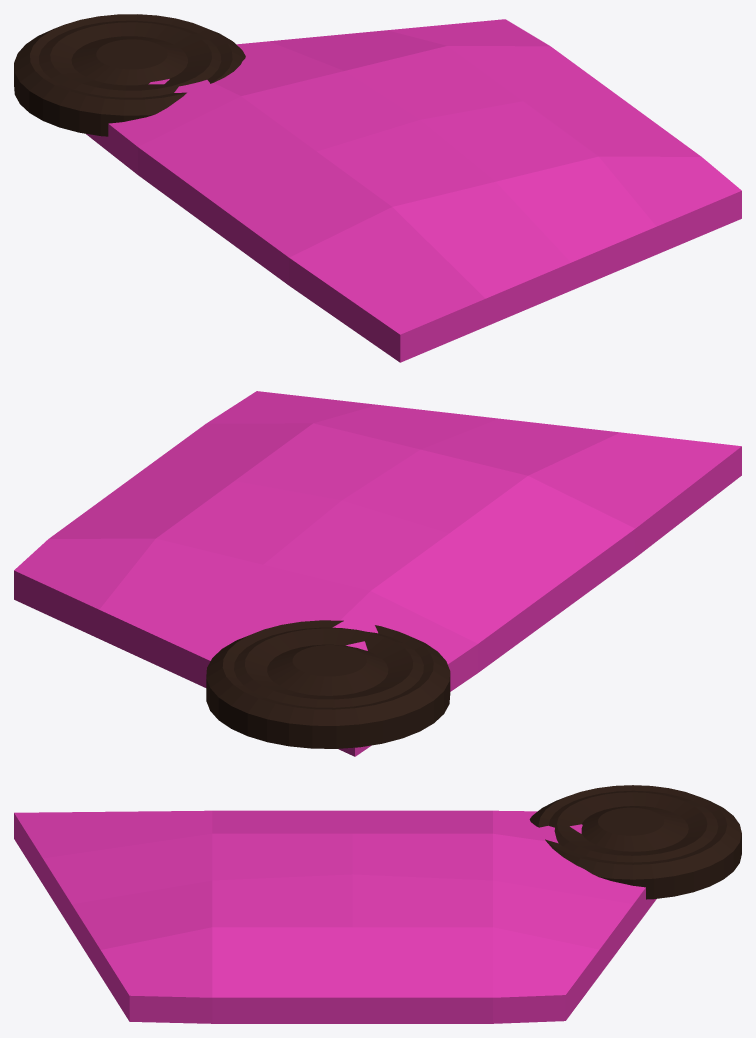
3 views of the same model, one above another, from view 1: azimuth 30°, elevation 25°; view 2: azimuth 150°, elevation 25°; view 3: azimuth 270°, elevation 25° (orthographic). The views are drawn at different scales.
Visible parts, largest first — view 1: Cube, Cylinder; view 2: Cube, Cylinder; view 3: Cube, Cylinder.
Part boxes in pixels (x1,y1,x2,y2): Cube: [86, 19, 741, 362]; Cylinder: [14, 14, 245, 136]; Cube: [14, 391, 741, 756]; Cylinder: [206, 620, 450, 748]; Cube: [14, 810, 656, 1023]; Cylinder: [529, 785, 741, 899].
Bounding box in the file's own units: 216 × 27.87 × 329.
